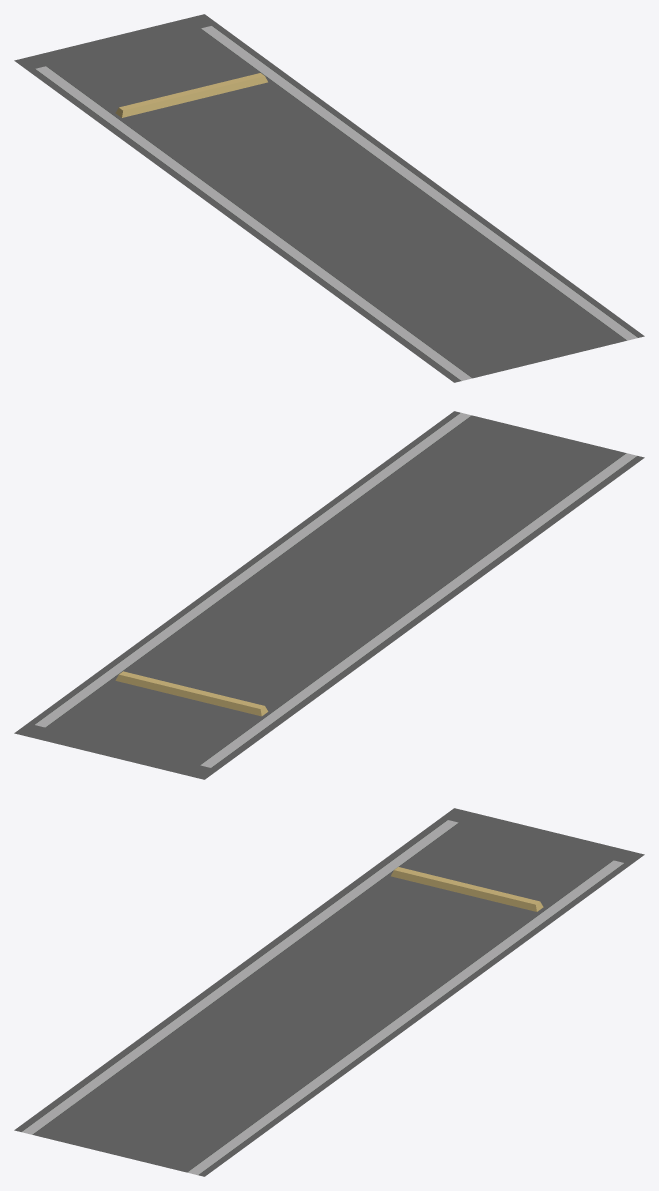
The model's file is SM_parkingSpotTruck_01.glb.
The picture shows the model from 3 angles, top to bottom: view 1: azimuth 30°, elevation 25°; view 2: azimuth 150°, elevation 25°; view 3: azimuth 330°, elevation 25°; orthographic projection.
Visible parts, largest first — view 1: SM_parkingSpotTruck_01; view 2: SM_parkingSpotTruck_01; view 3: SM_parkingSpotTruck_01.
Part boxes in pixels (bbox=[...]): SM_parkingSpotTruck_01: bbox=[14, 14, 644, 382]; SM_parkingSpotTruck_01: bbox=[14, 411, 644, 779]; SM_parkingSpotTruck_01: bbox=[14, 808, 644, 1176].
Size of the model in its own units: 4 by 0.12 by 16.
1 material, 1 textured.
